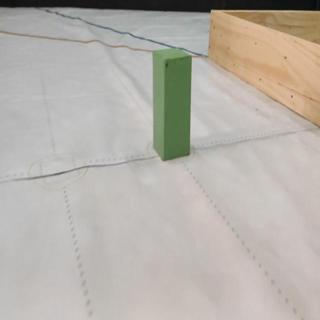greenbox: (151, 47, 193, 162)
